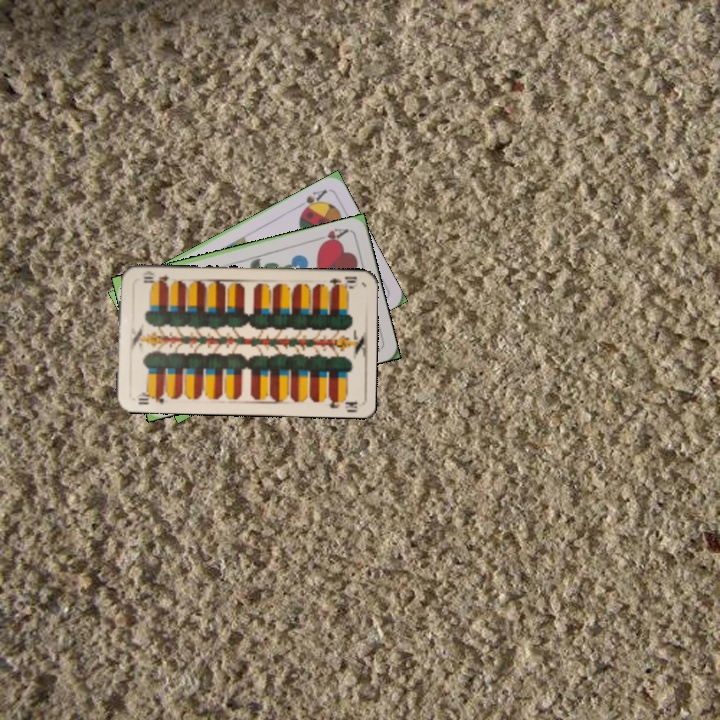E10: (325, 272, 359, 292), (132, 388, 166, 407)
HA: (311, 224, 351, 248)
SA: (296, 185, 330, 215)
